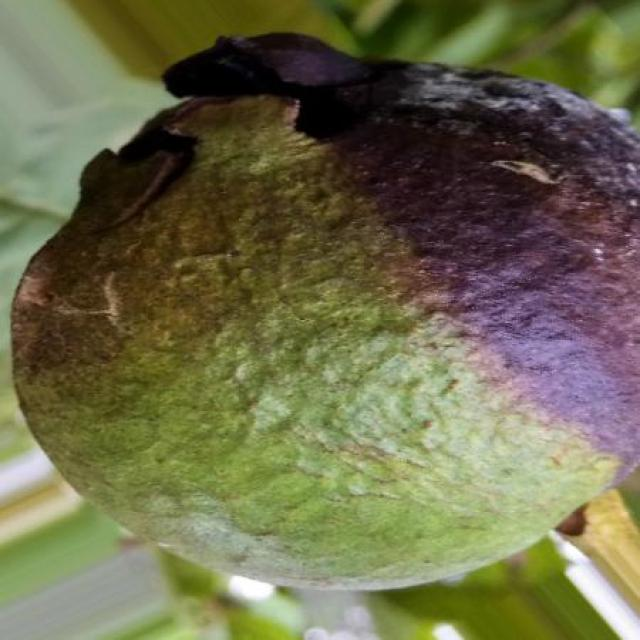Styler and Root: (12, 35, 640, 588)
